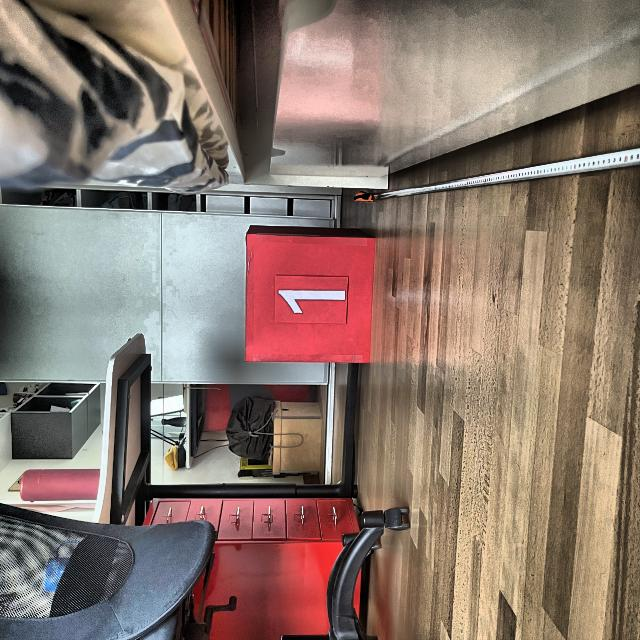one: (276, 285, 347, 316)
red box: (248, 228, 371, 362)
